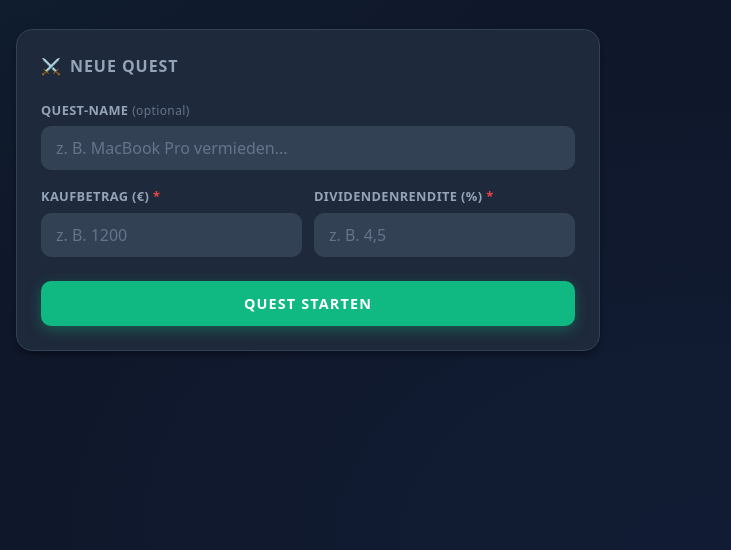
Test case: QuestForm › shows error for negative amount
In the field labelled "Kaufbetrag (€) *": {"x": 172, "y": 235} [41, 213, 302, 257], type "-100"
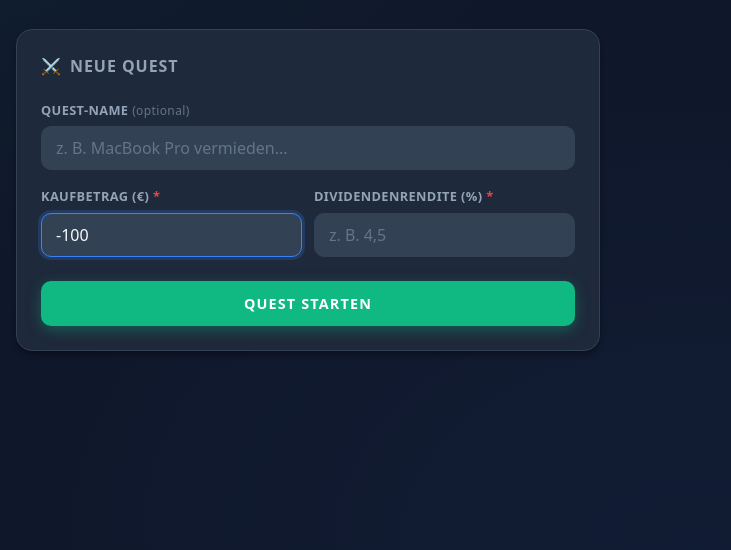
In the field labelled "Dividendenrendite (%) *": {"x": 444, "y": 235} [314, 213, 575, 257], type "4"
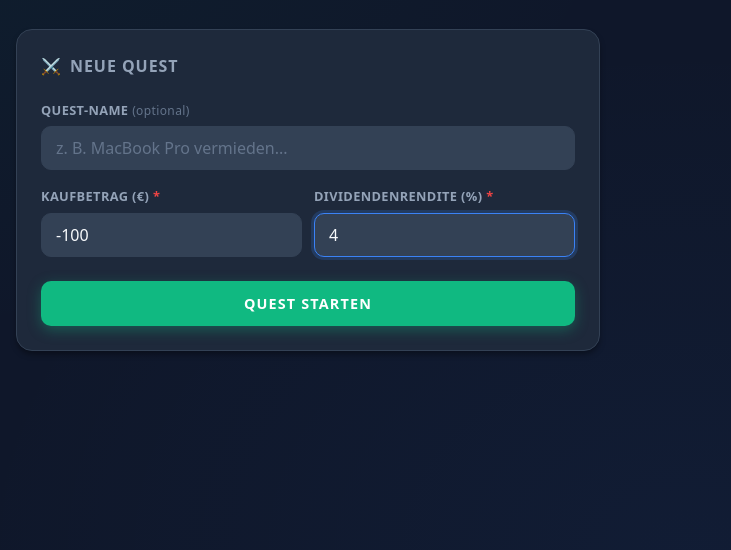
Click the button "Quest starten": {"x": 308, "y": 303} [41, 281, 575, 326]
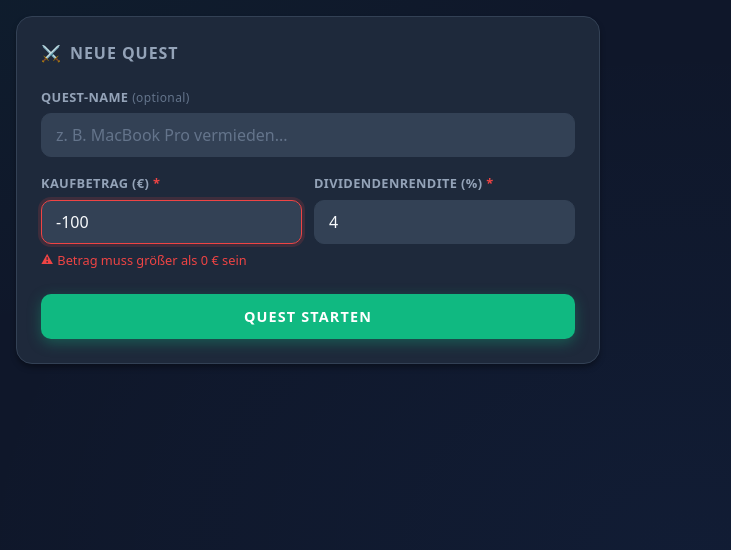
Expected: the text "Betrag muss größer als 0 € sein" is shown, [57, 250, 247, 268]
